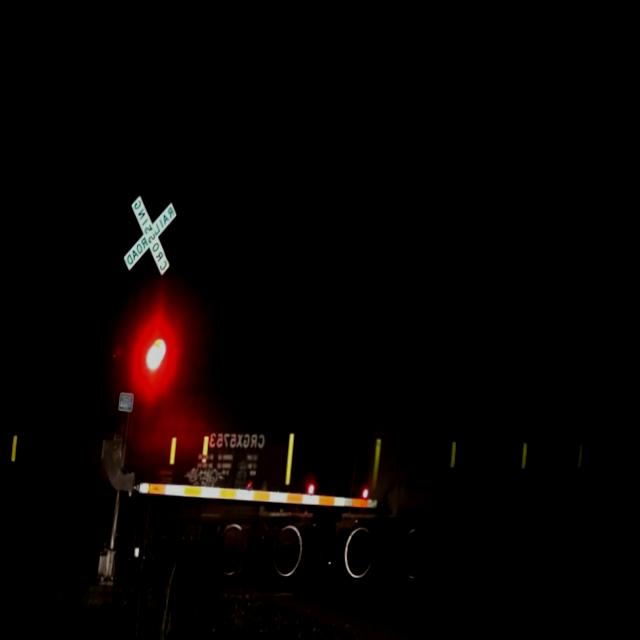tank: (333, 342, 615, 603)
